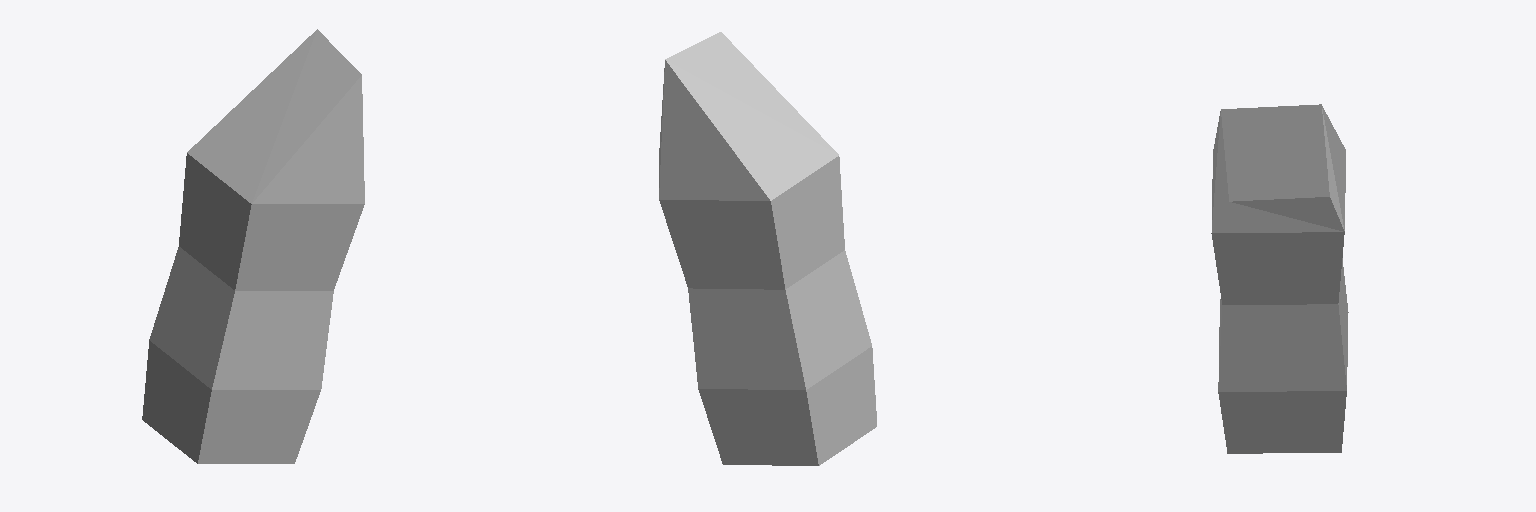
File: L_Arm.obj
The picture shows the model from 3 angles: view 1: azimuth 30°, elevation 25°; view 2: azimuth 150°, elevation 25°; view 3: azimuth 270°, elevation 25°; orthographic projection.
Visible parts, largest first — view 1: 立方体; view 2: 立方体; view 3: 立方体.
Boxes of the visible parts, x1=… form: 立方体: x1=142, y1=29, x2=364, y2=463; 立方体: x1=659, y1=32, x2=876, y2=465; 立方体: x1=1211, y1=104, x2=1348, y2=453.
Size of the model in its own units: 0.6301 by 1.38 by 0.4458.